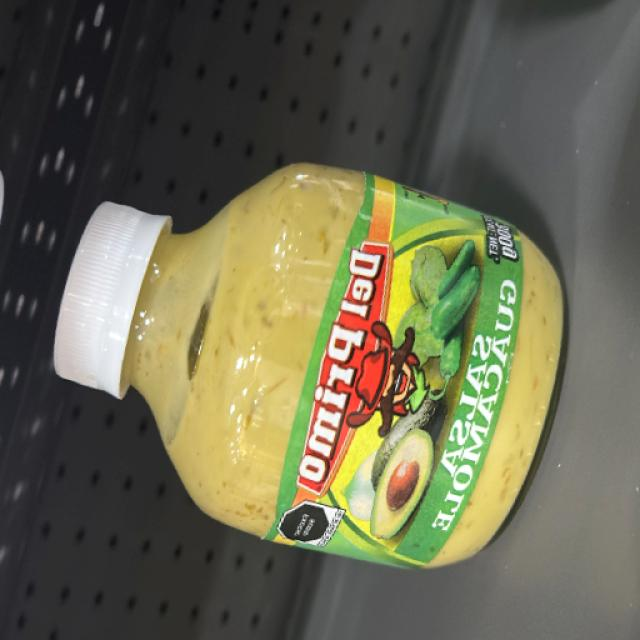delPrimoSalsa: (70, 190, 567, 574)
